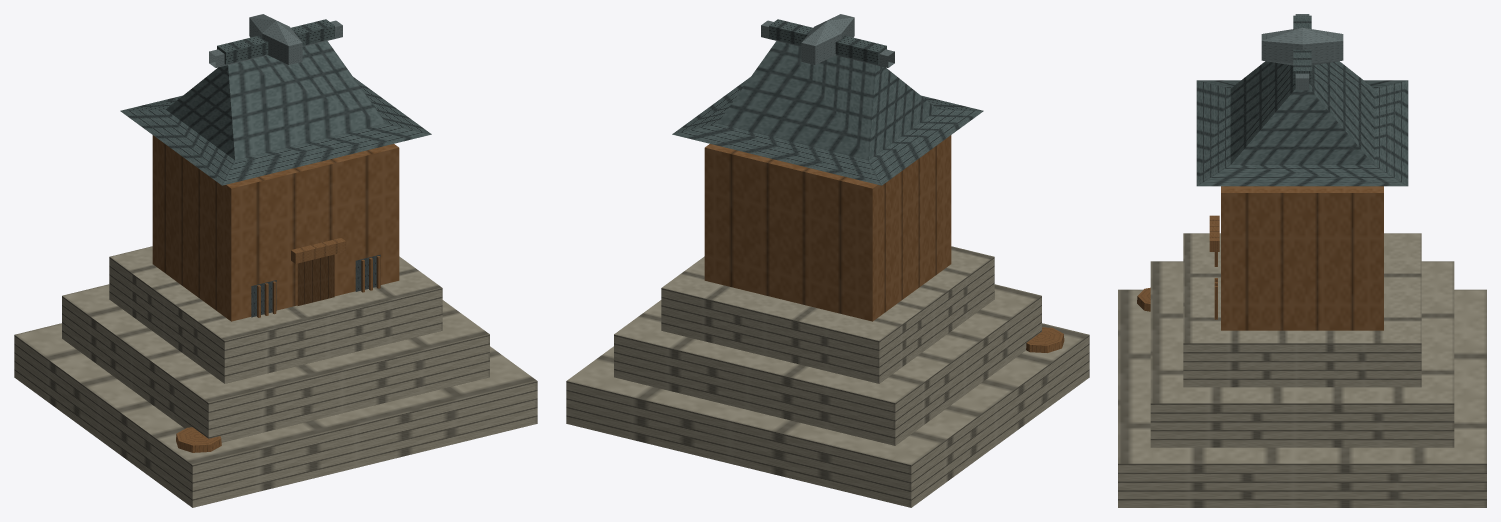
File: domestic-BRONZE_TERRACE-1-lod1.glb
3 renders of one model, left to right at view 1: azimuth 30°, elevation 25°; view 2: azimuth 150°, elevation 25°; view 3: azimuth 270°, elevation 25°, orthographic. The views are drawn at different scales.
Size of the model in its own units: 0.76 by 0.8 by 0.68.
Materials: 1 (1 with a texture image).
